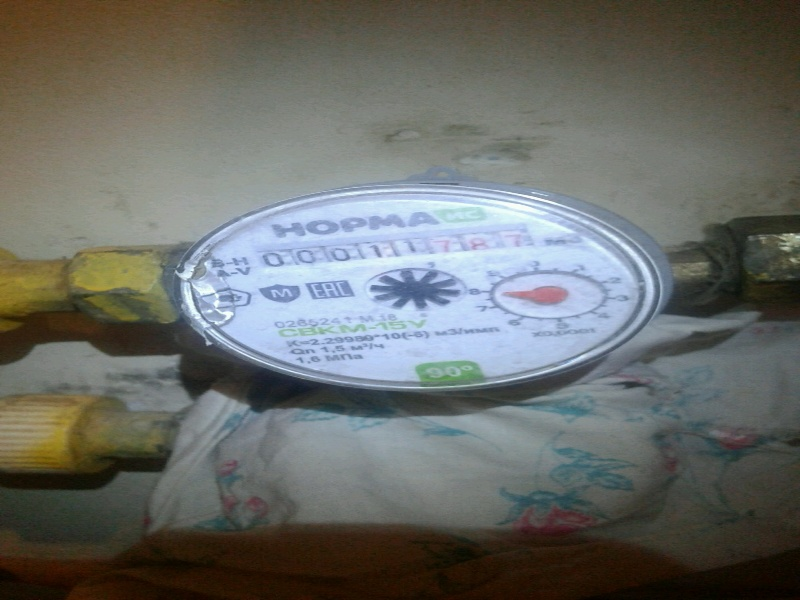dial: (251, 237, 538, 261)
